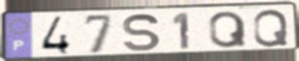1: (171, 11, 192, 52)
4: (38, 15, 74, 57)
7: (82, 14, 115, 56)
Q: (207, 10, 249, 50), (252, 8, 290, 48)
S: (121, 13, 163, 53)
